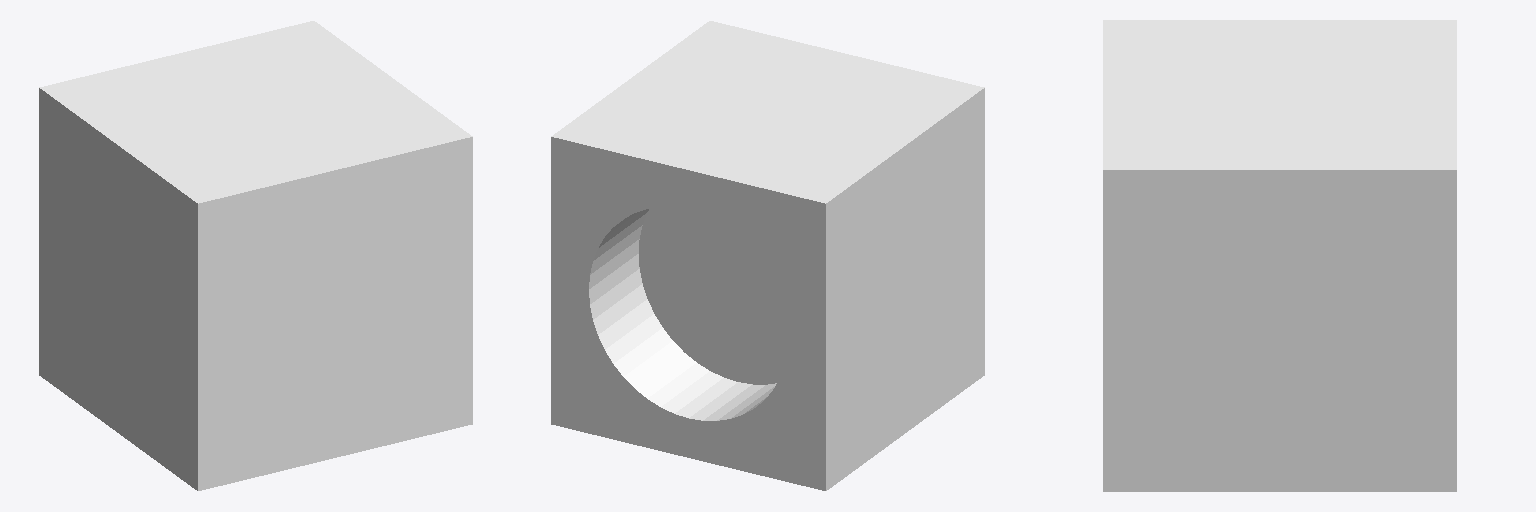
URDF robot description (Circle_cube_bottle_preprocessed):
<?xml version="1.0" ?>
<robot name="Circle_cube_bottle_preprocessed">
  <link name="baseLink">
    <contact>
    	<friction_anchor/>
    	   <lateral_friction value="1.0"/>
    </contact>
    <inertial>
      <origin rpy="0 0 0" xyz="0 0 0"/>
       <!-- mass controls penetration -->
       <mass value=".5"/>
       <inertia ixx="1e-4" ixy="0" ixz="0" iyy="1e-4" iyz="0" izz="1e-4"/>
    </inertial>
    <visual>
      <origin rpy="0 0 0" xyz="0 0 0"/>
      <geometry>
        <mesh filename="Circle_cube_bottle_preprocessed.obj"/>
      </geometry>
       <material name="white">
        <color rgba="1 1 1 1"/>
      </material>
    </visual>
    <collision>
      <origin rpy="0 0 0" xyz="0 0 0"/>
      <geometry>
        <mesh filename="Circle_cube_bottle_preprocessed.obj"/>
      </geometry>
    </collision>
  </link>
</robot>

--- Render facts (derived) ---
The picture shows the robot from 3 angles, left to right: view 1: azimuth 30°, elevation 25°; view 2: azimuth 150°, elevation 25°; view 3: azimuth 270°, elevation 25°; orthographic projection.
Robot: Circle_cube_bottle_preprocessed — 1 links, 0 joints (none); root link baseLink; default pose: every joint at zero.
Links seen in each view (by area): view 1: baseLink; view 2: baseLink; view 3: baseLink.
Link boxes in pixels (bbox=[...]): baseLink: bbox=[39, 21, 472, 490]; baseLink: bbox=[551, 21, 984, 490]; baseLink: bbox=[1103, 20, 1456, 491].
Bounding box of the posed robot: 0.08 × 0.08 × 0.08 m (x, y, z).
1 mesh visuals loaded from 1 distinct referenced files (1 OBJ).